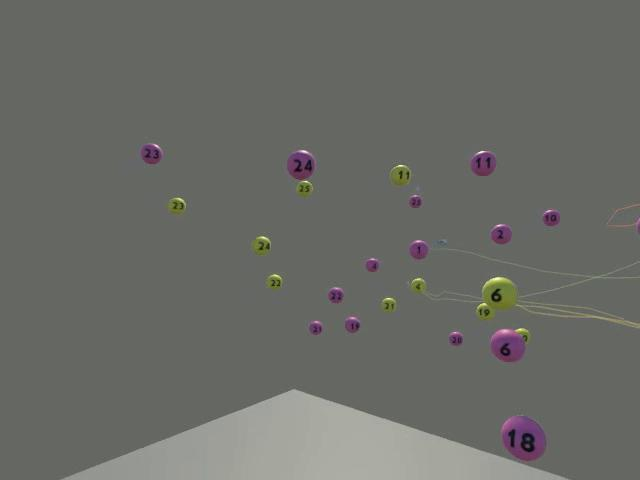ball_01_pink: (408, 239, 428, 259)
ball_02_pink: (490, 223, 511, 244)
ball_04_pink: (365, 257, 379, 272)
ball_04_yellow: (410, 277, 425, 293)
ball_06_pink: (489, 328, 525, 362)
ball_06_yellow: (481, 276, 517, 310)
ball_10_pink: (541, 209, 560, 226)
ball_11_pink: (470, 150, 496, 176)
ball_11_yellow: (389, 164, 410, 186)
ball_18_pink: (500, 415, 545, 461)
ball_19_pink: (344, 316, 361, 334)
ball_20_pink: (448, 330, 463, 346)
ball_21_pink: (308, 320, 322, 334)
ball_21_yellow: (381, 297, 396, 312)
ball_22_pink: (327, 286, 343, 303)
ball_22_yellow: (266, 273, 282, 289)
ball_23_pink: (140, 143, 162, 164)
ball_23_yellow: (167, 197, 186, 214)
ball_24_pink: (286, 149, 315, 179)
ball_24_yellow: (252, 235, 270, 255)
ball_25_pink: (408, 194, 422, 208)
ball_25_yellow: (295, 180, 313, 196)
ball_unknown: (475, 302, 494, 319), (514, 327, 530, 344)
